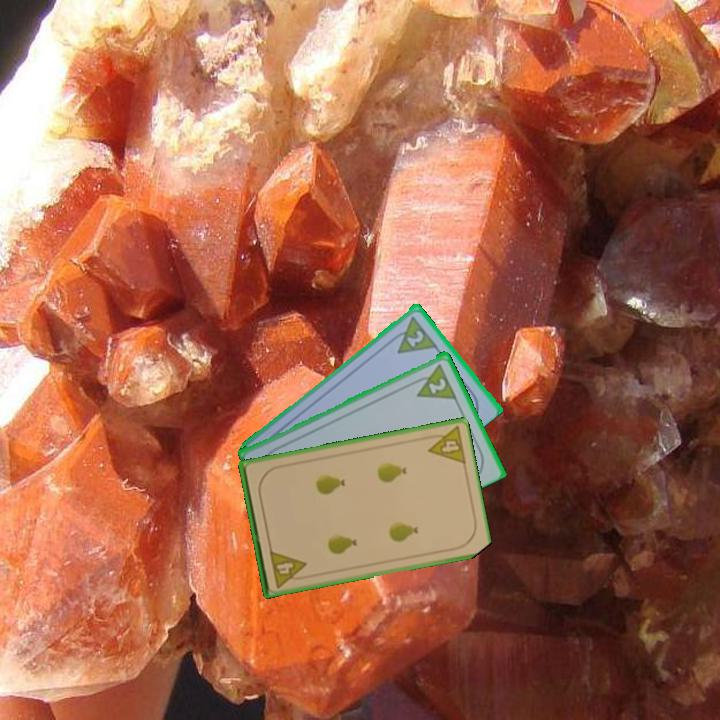2p: (408, 360, 459, 402), (403, 326, 427, 350)
4p: (421, 423, 468, 467), (266, 546, 310, 590)
